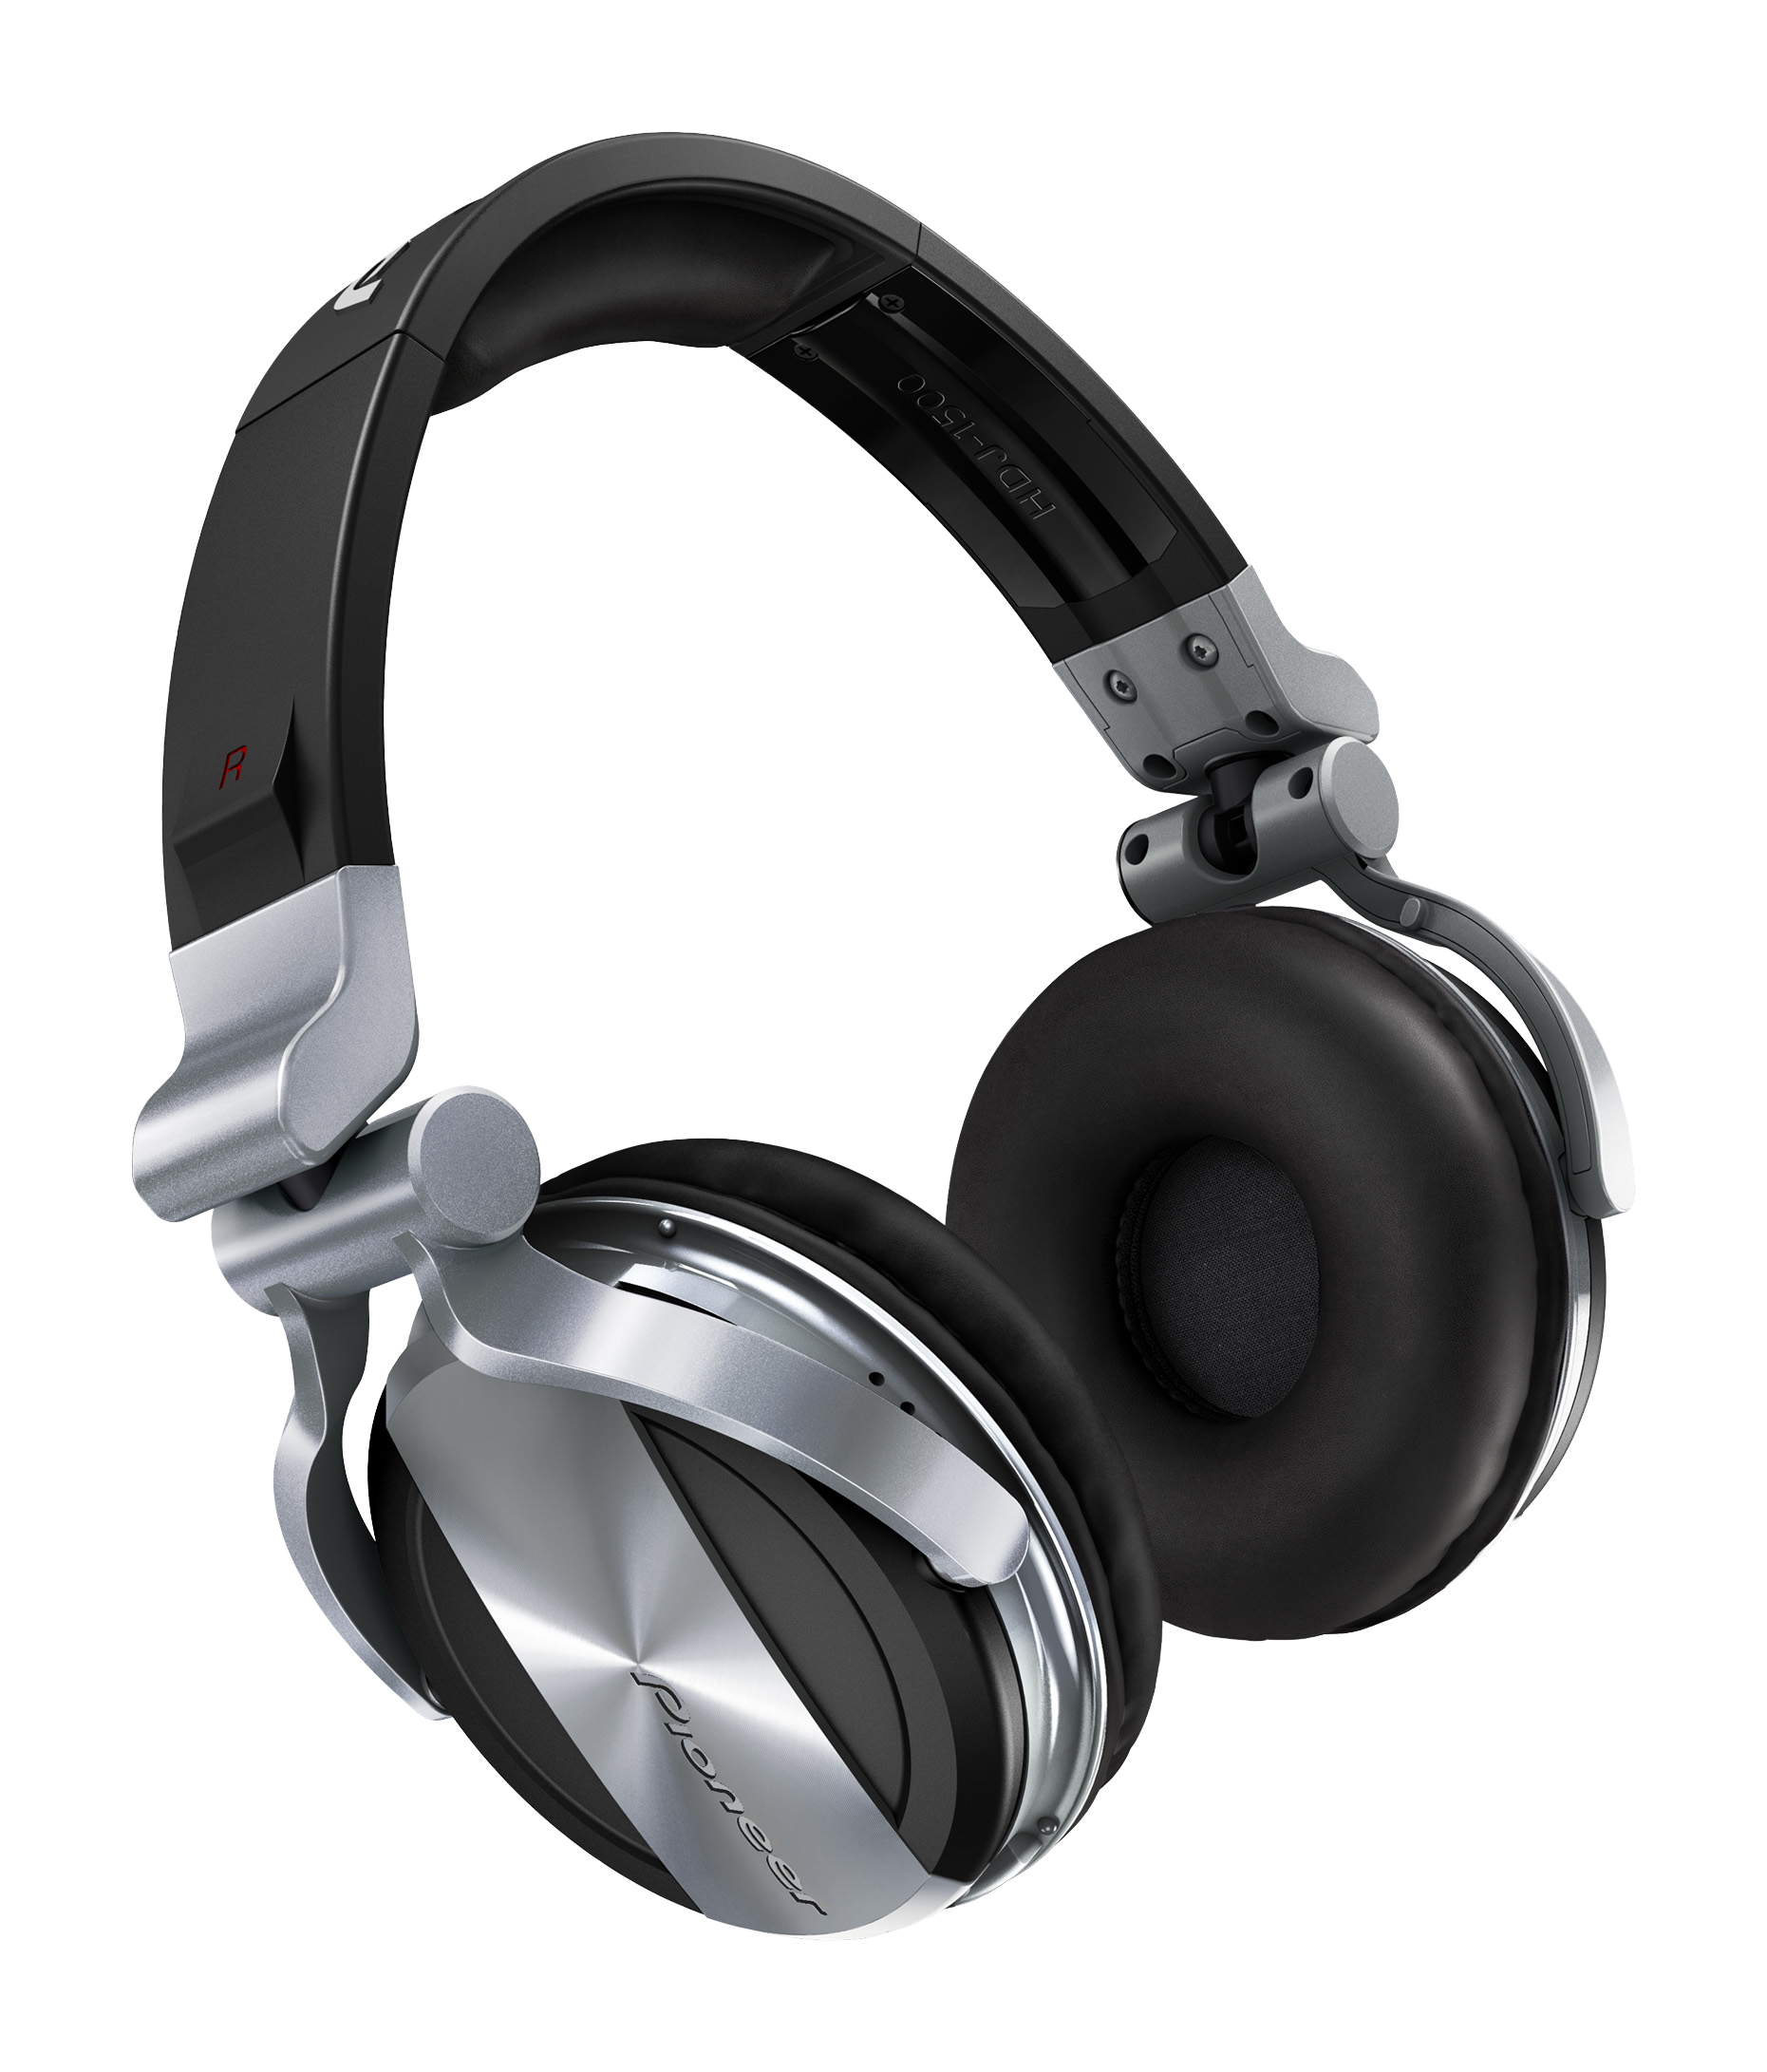headphone: (128, 121, 1667, 1963)
